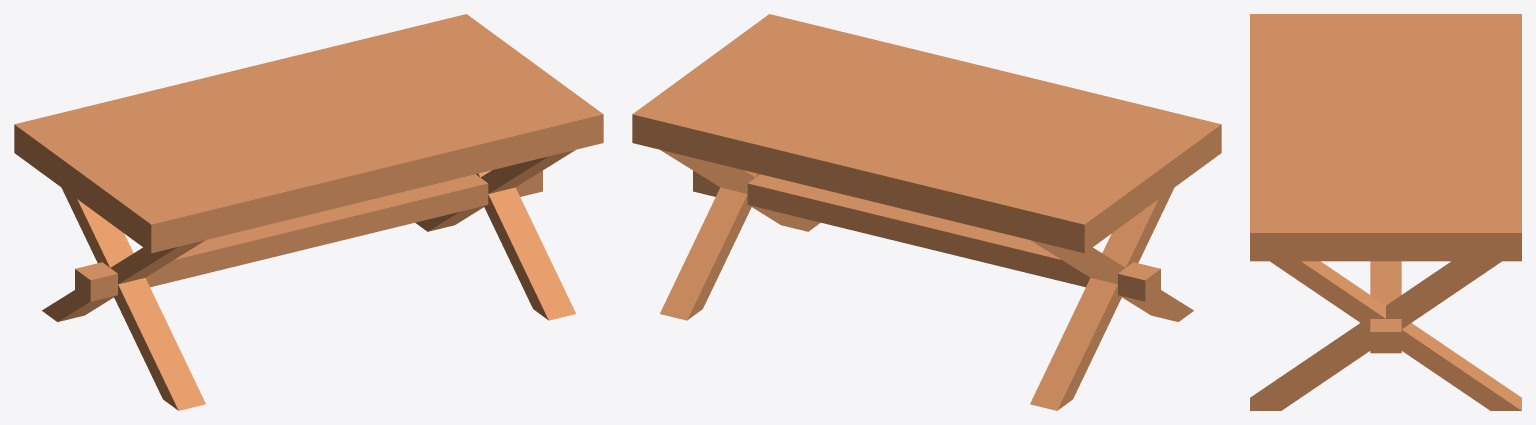
Rendered from tableCross.obj.
3 renders of one model, left to right at view 1: azimuth 30°, elevation 25°; view 2: azimuth 150°, elevation 25°; view 3: azimuth 270°, elevation 25°, orthographic.
Parts seen in each view (by area): view 1: tableCross; view 2: tableCross; view 3: tableCross.
Boxes of the visible parts, <box> form: tableCross: <box>14,14,603,410</box>; tableCross: <box>632,14,1221,410</box>; tableCross: <box>1250,14,1521,410</box>.
Size of the model in its own units: 0.8521 by 0.3474 by 0.4474.
